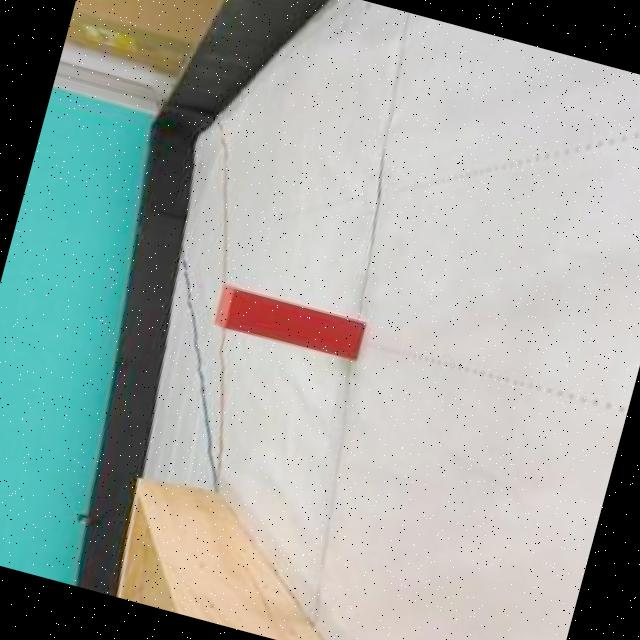redbox: (209, 281, 364, 362)
